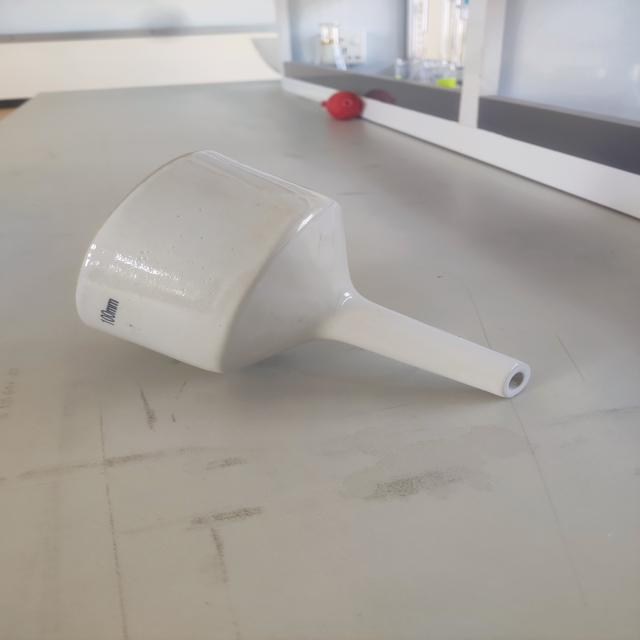Buchner_Funnel: (51, 127, 562, 450)
